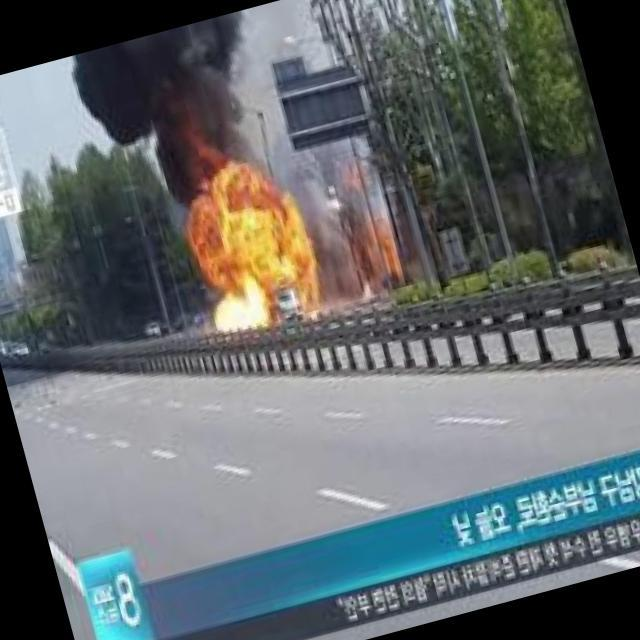Fire: (192, 184, 325, 338)
